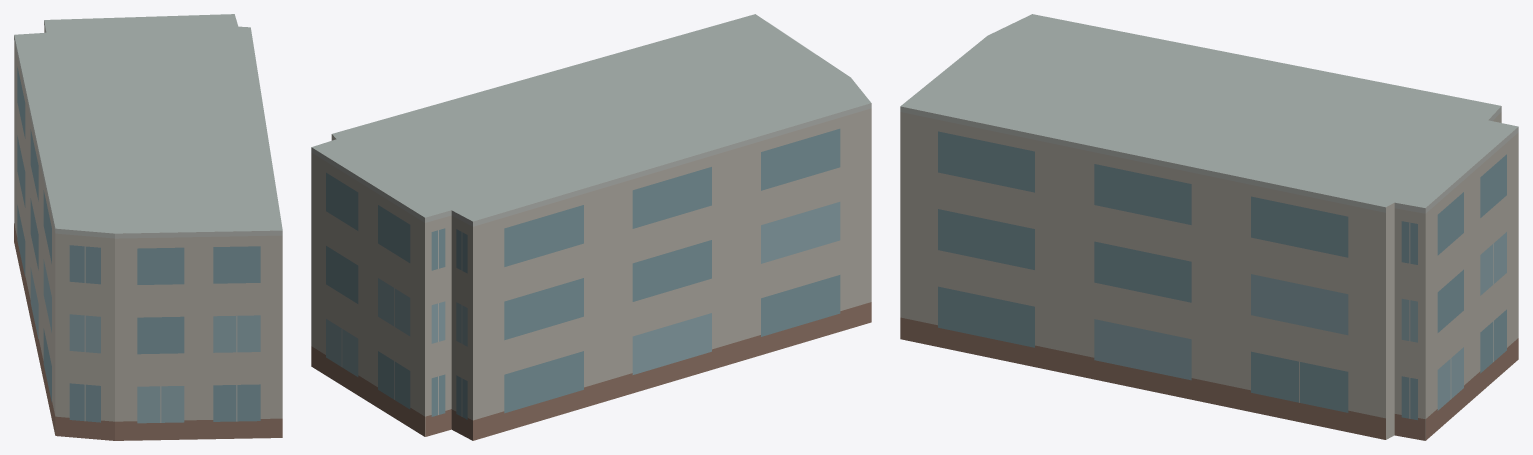
Rendered from survey-upis-32553146.glb.
3 views of the same model, side by side, from view 1: azimuth 30°, elevation 25°; view 2: azimuth 150°, elevation 25°; view 3: azimuth 270°, elevation 25° (orthographic). The views are drawn at different scales.
Visible parts, largest first — view 1: survey-upis-32553146.tmp; view 2: survey-upis-32553146.tmp; view 3: survey-upis-32553146.tmp.
Part boxes in pixels (x1=…): survey-upis-32553146.tmp: x1=14, y1=14, x2=282, y2=440; survey-upis-32553146.tmp: x1=311, y1=14, x2=871, y2=440; survey-upis-32553146.tmp: x1=900, y1=14, x2=1518, y2=440.
Size of the model in its own units: 18.26 by 10.2 by 24.57.
